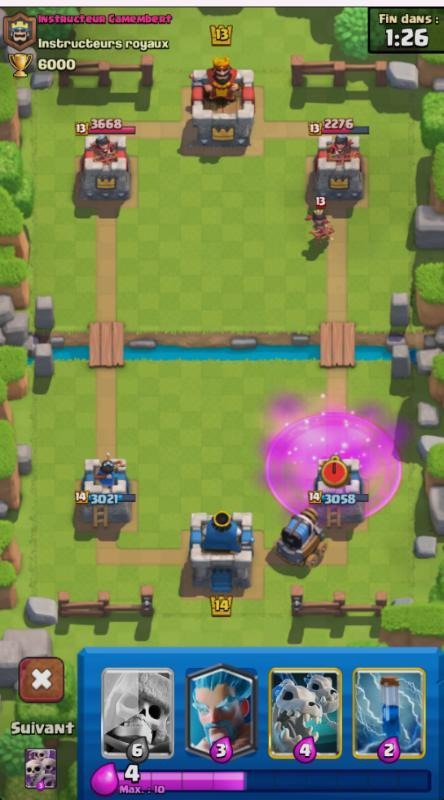enemy_princess: (303, 192, 337, 247)
player_sparky: (270, 502, 332, 573)
